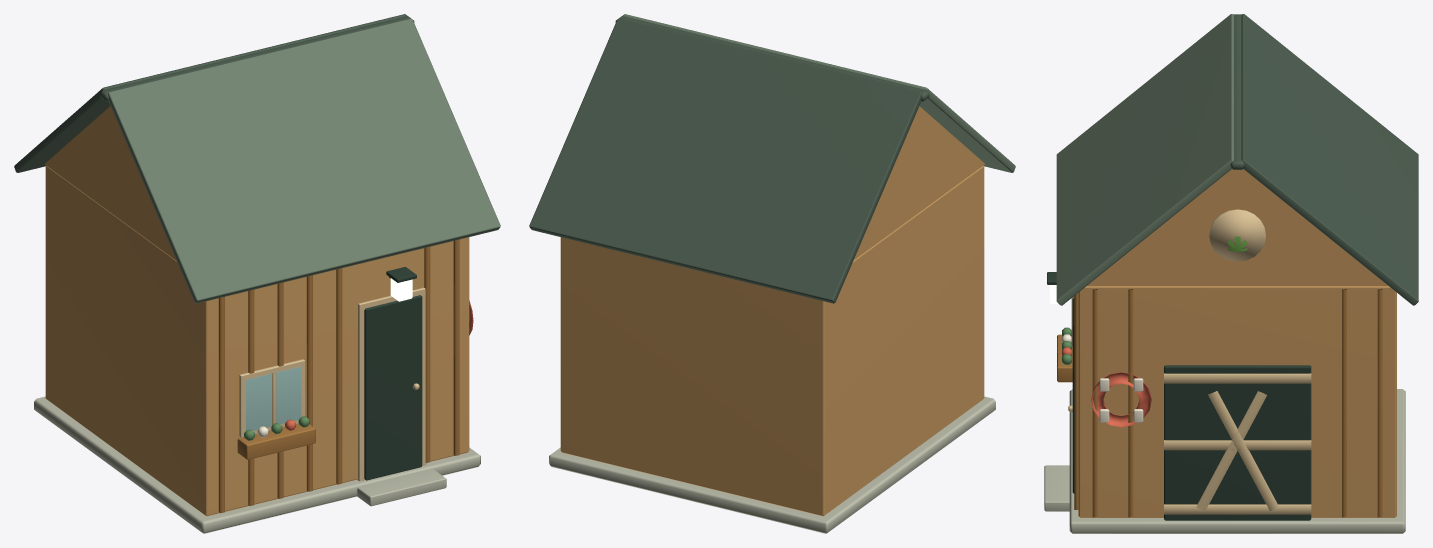
File: boathouse.glb
3 views of the same model, side by side, from view 1: azimuth 30°, elevation 25°; view 2: azimuth 150°, elevation 25°; view 3: azimuth 270°, elevation 25° (orthographic).
Parts seen in each view (by area): view 1: RoofS, Walls, Door, Plinth, GableW, RoofN, WindowGlass, DoorTrim, Step, FlowerBox, BattenF4, BattenF8 (+7 smaller); view 2: Walls, RoofN, Plinth, GableW, RoofS, Ridge; view 3: Walls, RoofN, RoofS, BarnDoor, GableE, Plinth, Medallion, BarnRail1.18, BarnRail0.16, BarnRail0.66, BarnBrace1, BarnBrace-1 (+10 smaller).
Boxes of the visible parts, left/top/right/bottom form: RoofS: left=108, top=18, right=500, bottom=303; Walls: left=45, top=166, right=469, bottom=516; Door: left=364, top=295, right=422, bottom=480; Plinth: left=34, top=396, right=480, bottom=533; GableW: left=44, top=106, right=176, bottom=260; RoofN: left=14, top=14, right=406, bottom=172; WindowGlass: left=246, top=366, right=301, bottom=430; DoorTrim: left=357, top=287, right=426, bottom=481; Step: left=357, top=469, right=446, bottom=506; FlowerBox: left=237, top=424, right=315, bottom=459; BattenF4: left=336, top=268, right=342, bottom=484; BattenF8: left=453, top=239, right=459, bottom=455; Walls: left=560, top=166, right=984, bottom=516; RoofN: left=529, top=18, right=921, bottom=303; Plinth: left=549, top=396, right=995, bottom=533; GableW: left=853, top=106, right=985, bottom=260; RoofS: left=623, top=14, right=1015, bottom=172; Ridge: left=615, top=15, right=929, bottom=101; Walls: left=1078, top=286, right=1396, bottom=517; RoofN: left=1241, top=14, right=1418, bottom=305; RoofS: left=1056, top=14, right=1233, bottom=305; BarnDoor: left=1164, top=365, right=1311, bottom=520; GableE: left=1087, top=169, right=1388, bottom=286; Plinth: left=1069, top=389, right=1405, bottom=533; Medallion: left=1209, top=209, right=1265, bottom=261; BarnRail1.18: left=1164, top=373, right=1311, bottom=383; BarnRail0.16: left=1164, top=504, right=1311, bottom=514; BarnRail0.66: left=1164, top=440, right=1311, bottom=450; BarnBrace1: left=1208, top=391, right=1278, bottom=511; BarnBrace-1: left=1196, top=391, right=1266, bottom=510.
Bounding box in the file's own units: 2.49 × 2.97 × 2.64.
